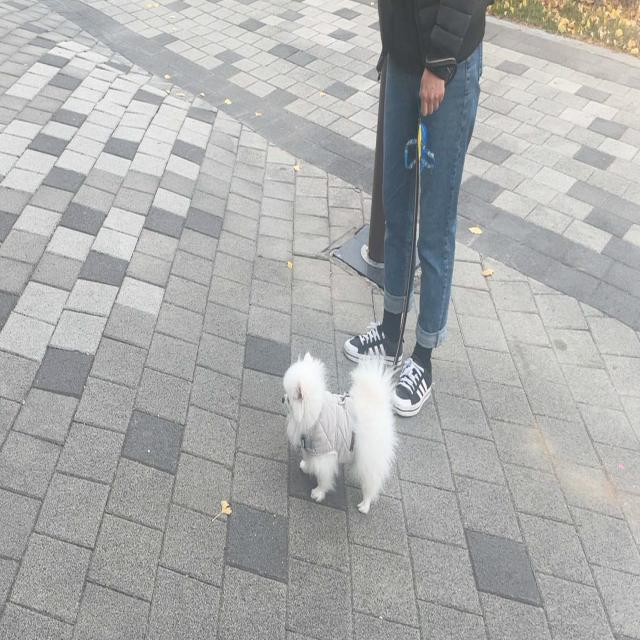Leashed_Dog: (281, 64, 454, 514)
